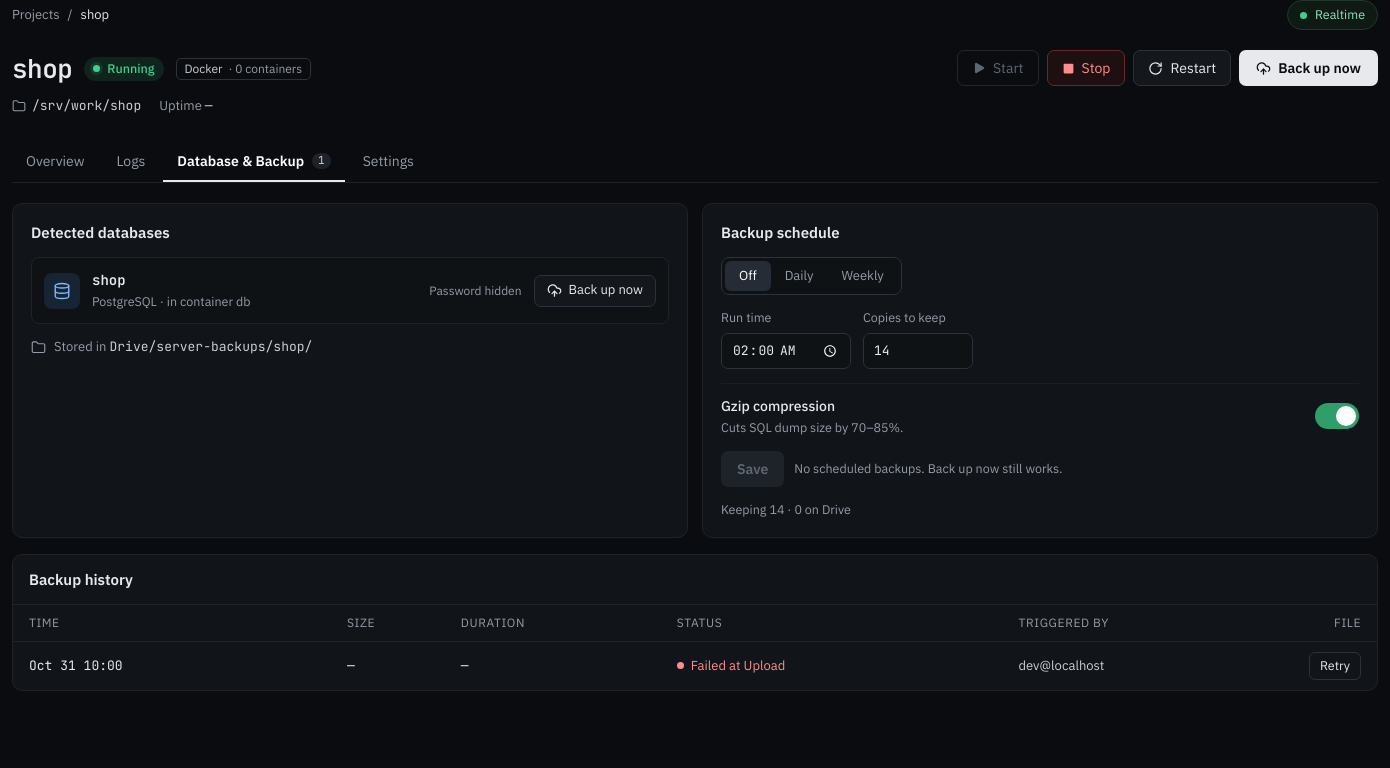
Scenario: backup history › does not read the list again for a refusal that wrote no row
The width and height of the screenshot is (1390, 768).
Click the button "Retry".
click(1335, 666)  # box left=1309, top=652, right=1361, bottom=680
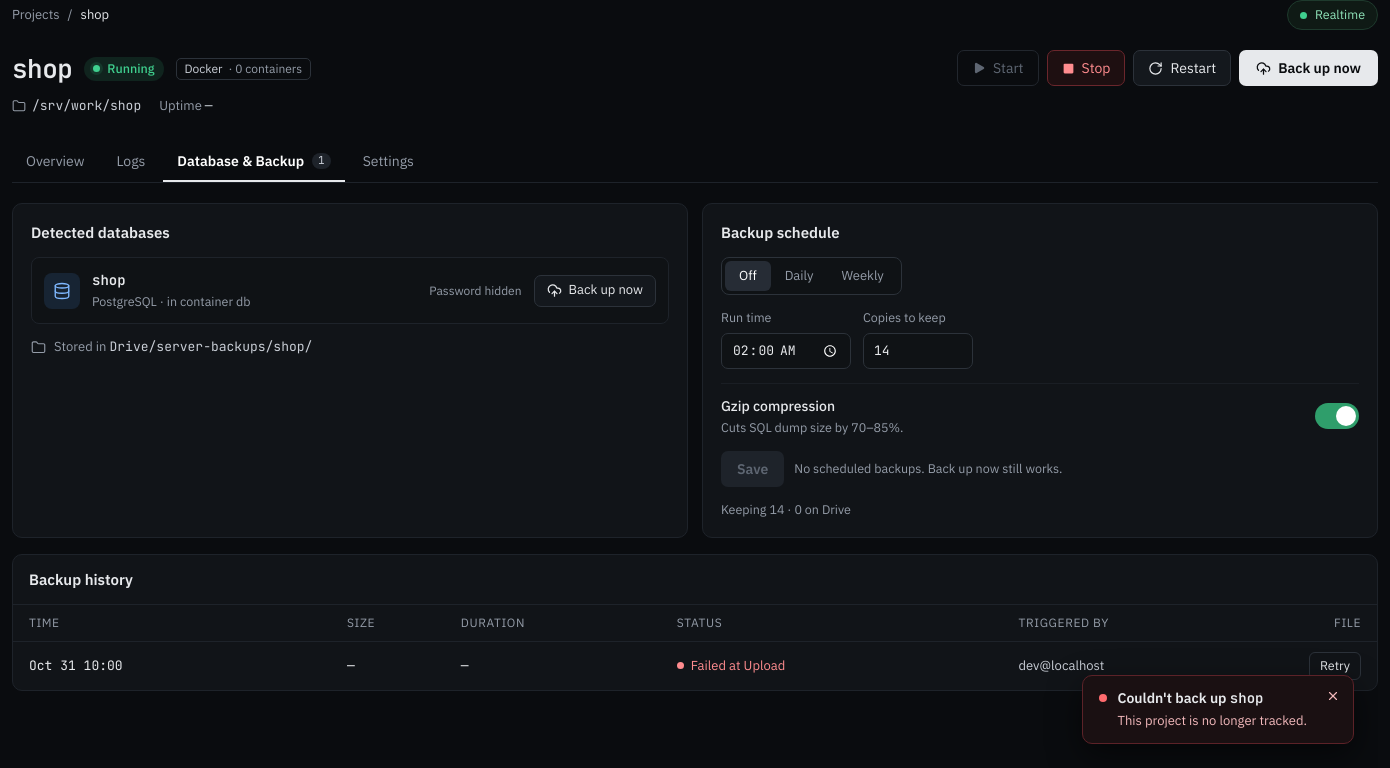
Expected: the text "This project is no longer tracked." is shown, left=1118, top=712, right=1307, bottom=731
